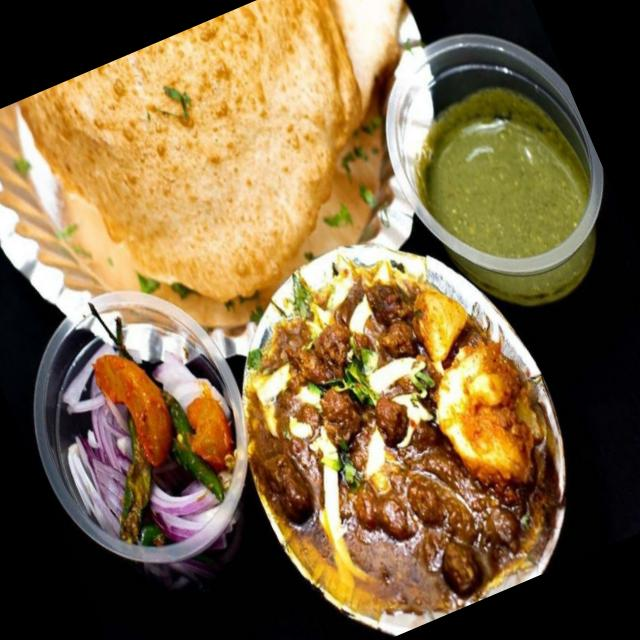Bhatura: (17, 0, 426, 347)
Chole: (205, 231, 584, 640)
